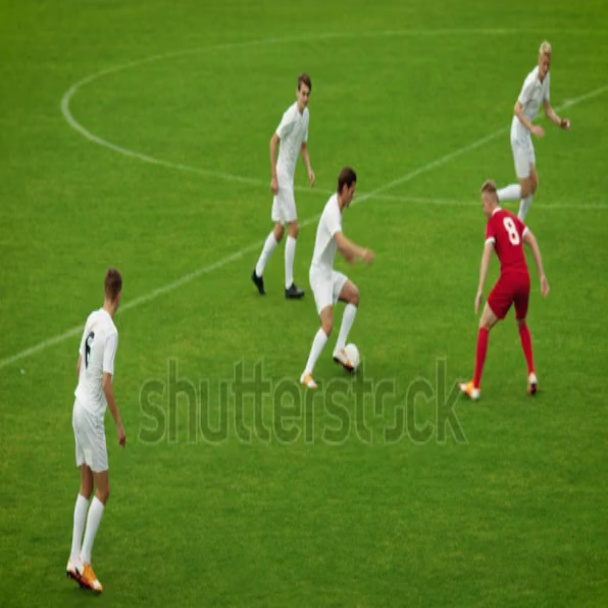ball: (344, 340, 359, 374)
